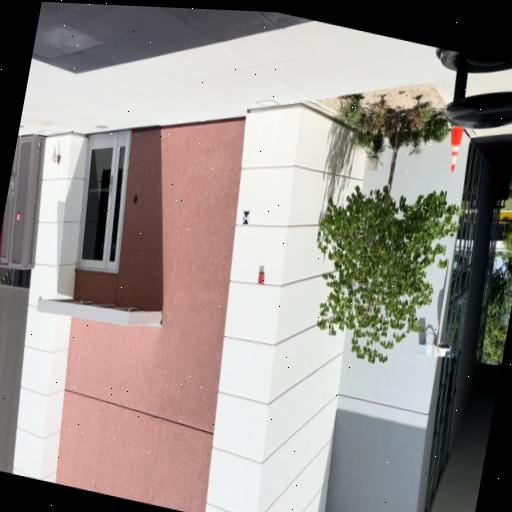target9: (242, 210, 250, 223)
